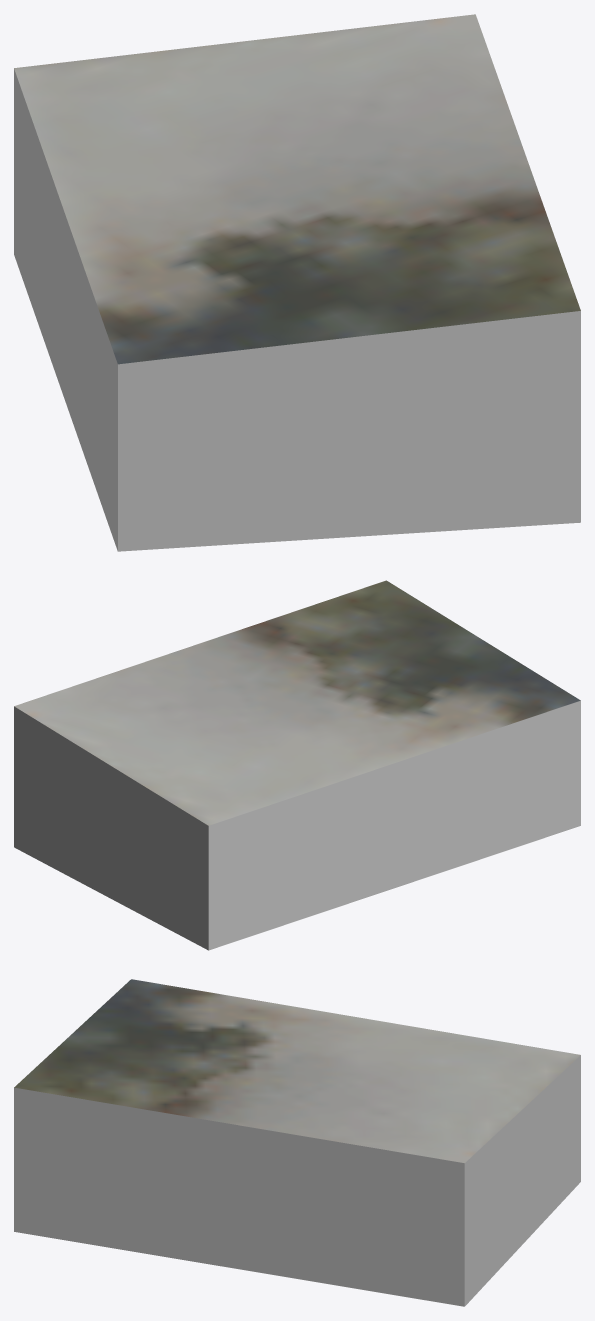
Rendered from DEBW_0010007TxeB.gltf.
3 renders of one model, top to bottom at view 1: azimuth 30°, elevation 25°; view 2: azimuth 150°, elevation 25°; view 3: azimuth 270°, elevation 25°, orthographic. The views are drawn at different scales.
Parts seen in each view (by area): view 1: Z_UP; view 2: Z_UP; view 3: Z_UP.
Boxes of the visible parts, x1=… form: Z_UP: x1=14, y1=14, x2=580, y2=551; Z_UP: x1=14, y1=580, x2=580, y2=950; Z_UP: x1=14, y1=979, x2=580, y2=1306.
Bounding box in the file's own units: 9.05 × 3.04 × 10.83.
2 materials, 1 textured.
